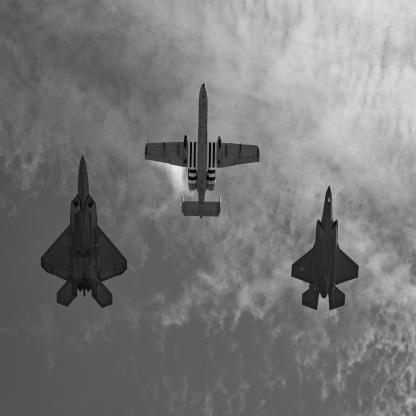A10: (145, 84, 261, 220)
F22: (42, 156, 129, 310)
F35: (292, 186, 360, 311)
